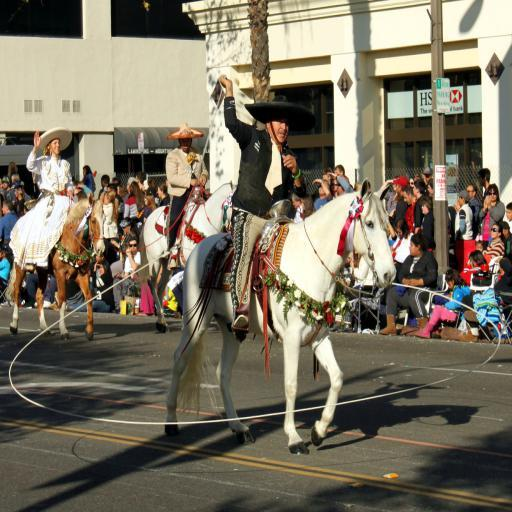Horse: (163, 175, 397, 456), (137, 179, 241, 330), (2, 192, 107, 341)
